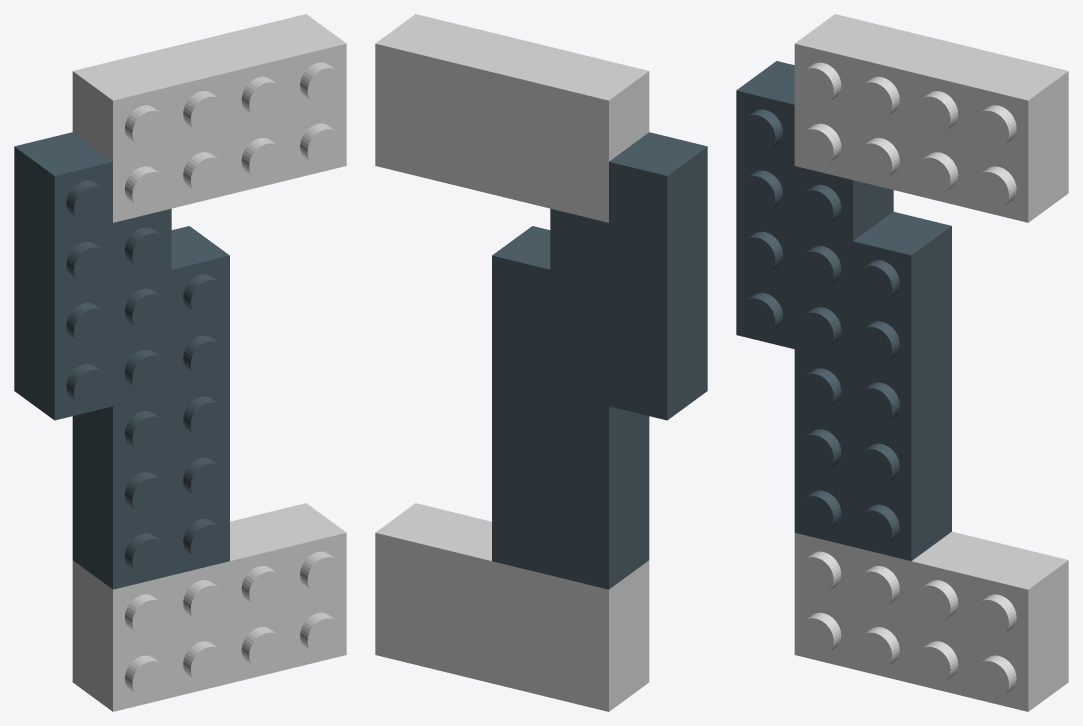
File: current.glb
The picture shows the model from 3 angles, left to right: view 1: azimuth 30°, elevation 25°; view 2: azimuth 150°, elevation 25°; view 3: azimuth 330°, elevation 25°; orthographic projection.
Visible parts, largest first — view 1: world; view 2: world; view 3: world.
Boxes of the visible parts, box(x1,y1,x2,y2) form: world: box(14, 14, 346, 711); world: box(375, 14, 707, 711); world: box(736, 14, 1068, 711).
Size of the model in its own units: 40 by 80 by 11.4.
